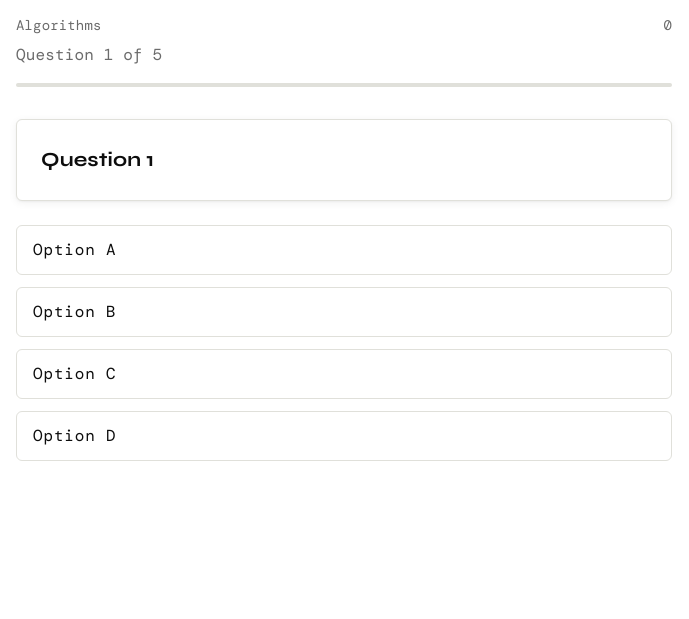
Test: QuizScreen — answer selection › increments score when correct answer is selected
The width and height of the screenshot is (689, 619).
// correctIndex is 1
Click the button "Option B": (75, 312) [16,287,672,337]
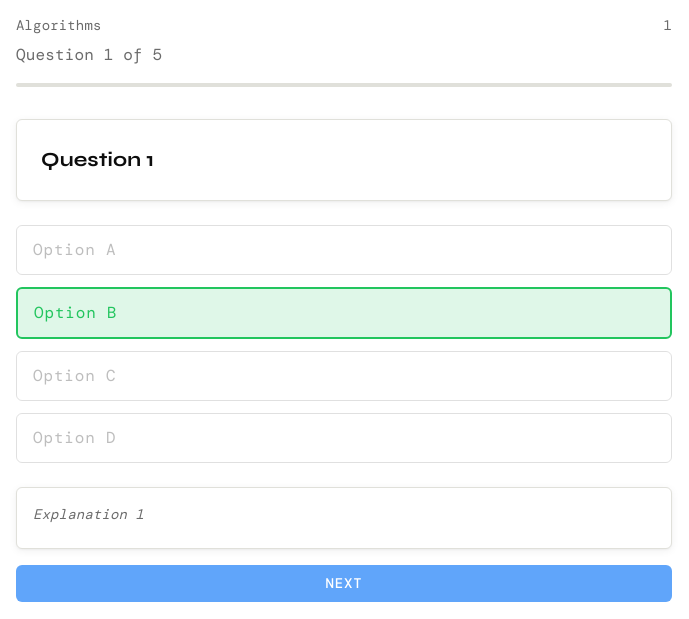
Expected: the text with test id "score" reads "1", [663,16,672,34]
